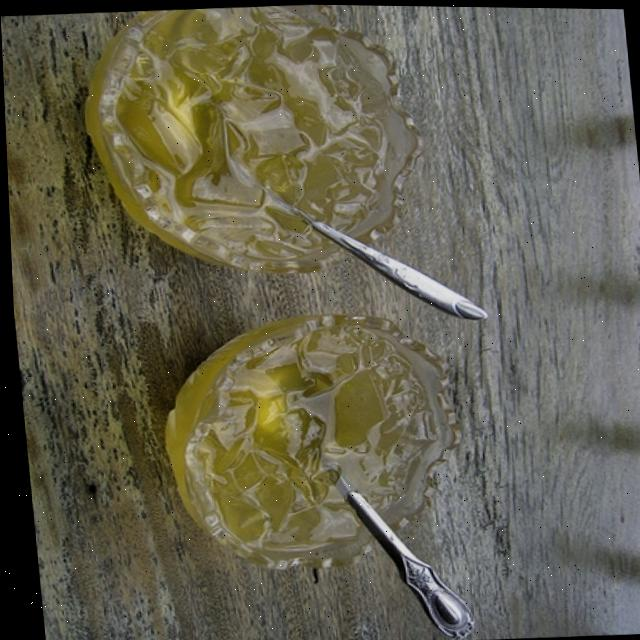蛋糕甜品: (5, 0, 569, 613)
